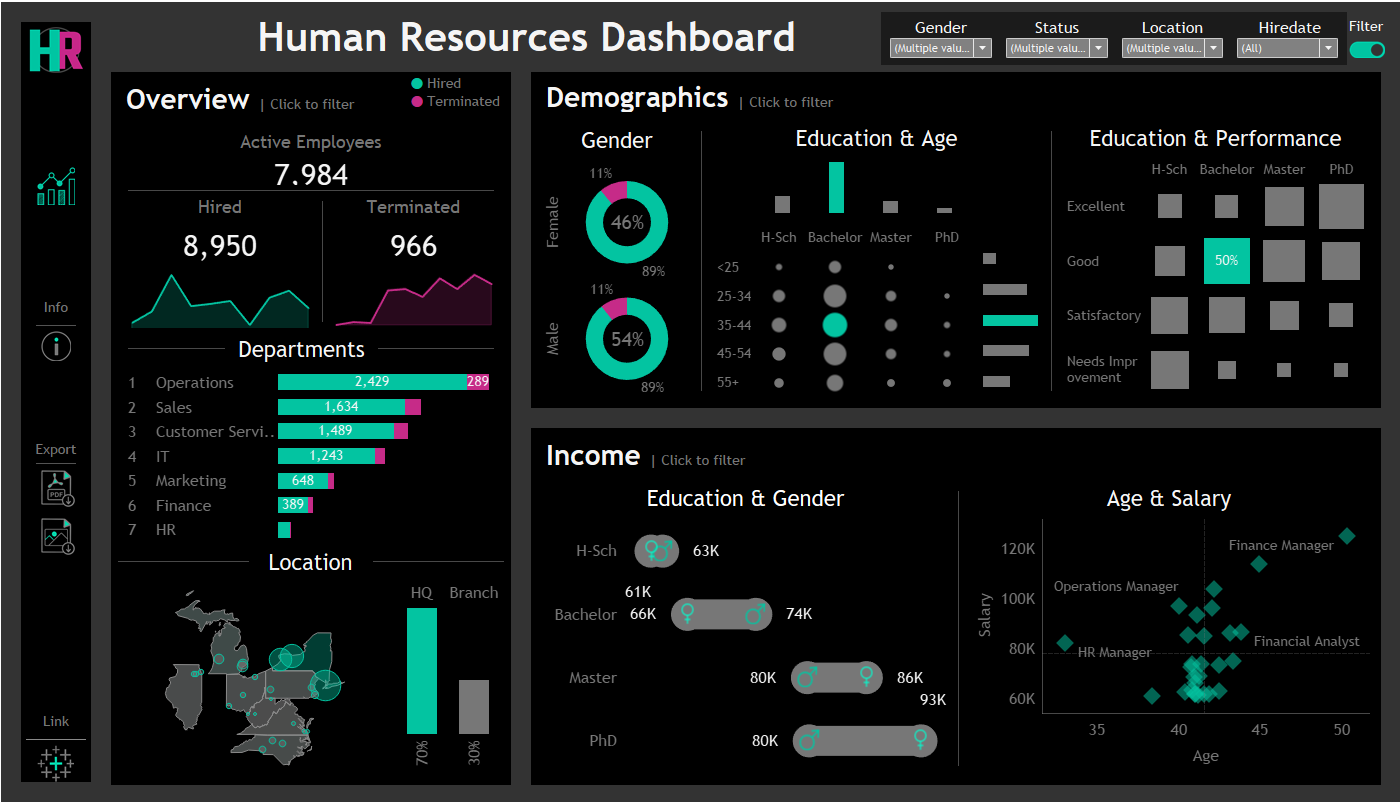

What the dashboard file says about the page in this screenshot:
{"tool":"tableau","page":{"name":"HR | Summary","canvas":[1400,800],"ordinal":0},"visuals":[{"type":"blank","box":[92,0,1308,215]},{"type":"text","box":[110,0,831,70]},{"type":"blank","box":[941,0,439,70]},{"type":"text","box":[1344,9,51,30]},{"type":"filter","title":"Gender v.s. Education Level","param":"[federated.1ss2mue0buwsfx1dy57fa0rys72c].[none:Gender:nk]","box":[882,12,116,49]},{"type":"filter","title":"Gender v.s. Education Level","param":"[federated.1ss2mue0buwsfx1dy57fa0rys72c].[none:Calculation_545498549809082369:nk","box":[998,12,116,49]},{"type":"filter","title":"Gender v.s. Education Level","param":"[federated.1ss2mue0buwsfx1dy57fa0rys72c].[none:Calculation_625155964711464966:nk","box":[1114,12,115,49]},{"type":"filter","title":"Gender v.s. Education Level","param":"[federated.1ss2mue0buwsfx1dy57fa0rys72c].[yr:Hiredate:ok]","box":[1229,12,115,49]},{"type":"image","param":"Image/Logo.png","box":[20,20,70,55]},{"type":"dashboard-object","box":[1348,28,36,38]},{"type":"text","box":[406,70,102,43]},{"type":"blank","box":[20,75,70,80]},{"type":"text","box":[117,77,386,41]},{"type":"text","box":[537,77,836,37.5]},{"type":"text","box":[117,118,386,38]},{"type":"text","box":[537,119.5,158,39]},{"type":"blank","box":[700,119.5,1,280]},{"type":"text","box":[706,119.5,339,34]},{"type":"blank","box":[1050,119.5,1,280]},{"type":"text","box":[1056,119.5,317,34]},{"type":"worksheet","title":"Education Level","mark":"Bar","rows":["Calculation_625155964665917440"],"cols":["Education Level"],"box":[706,153.5,339,62]},{"type":"worksheet","title":"Education vs Performance ","mark":"Square","rows":["Performance Rating"],"cols":["Education Level"],"box":[1056,153.5,317,246]},{"type":"worksheet","title":"BAN Active","mark":"Text","box":[117,156,386,32]},{"type":"worksheet","title":"Gender ratio","mark":"Pie","rows":["Gender"],"cols":["Calculation_2074752095177412609","Calculation_2074752095177687043"],"box":[537,158.5,158,241]},{"type":"dashboard-object","box":[30,165,50,38]},{"type":"blank","box":[117,188,386,1]},{"type":"text","box":[117,189,204,32]},{"type":"blank","box":[321,189,1,141]},{"type":"text","box":[322,189,180.9,32]},{"type":"blank","box":[30,203,50,10]},{"type":"blank","box":[30,213,50,80]},{"type":"text","box":[92,215,1308,363]},{"type":"worksheet","title":"Age vs education ","mark":"Circle","rows":["Calculation_2074752095188586501"],"cols":["Education Level"],"box":[706,215.5,272,184]},{"type":"worksheet","title":"Age groups","mark":"Bar","rows":["Calculation_2074752095188586501"],"cols":["Calculation_625155964665917440"],"box":[978,215.5,67,184]},{"type":"worksheet","title":"BAN Hired","mark":"Text","box":[117,221,204,44]},{"type":"worksheet","title":"BAN Terminated","mark":"Text","box":[322,221,180.9,44]},{"type":"worksheet","title":"Hire by Year","mark":"Line","rows":["Calculation_625155964665917440","Calculation_625155964665917440"],"cols":["Hiredate"],"box":[117,265,204,65]},{"type":"worksheet","title":"Terminated by Year","mark":"Line","rows":["Calculation_625155964666724353","Calculation_625155964666724353"],"cols":["Termdate"],"box":[322,265,180.9,65]},{"type":"text","box":[30,293,50,25]},{"type":"blank","box":[30,318,50,11]},{"type":"dashboard-object","box":[30,329,50,30]},{"type":"blank","box":[127,330,97,34]},{"type":"text","box":[224,330,153,34]},{"type":"blank","box":[377,330,116,34]},{"type":"blank","box":[30,359,50,80]},{"type":"worksheet","title":"Departments","mark":"Bar","rows":["Calculation_625155964708540421","Department"],"cols":["Calculation_625155964665917440"],"box":[117,364,386,180]},{"type":"text","box":[537,433.5,836,41]},{"type":"text","box":[30,439,50,17]},{"type":"blank","box":[30,456,50,11]},{"type":"dashboard-object","box":[30,467,50,38]},{"type":"text","box":[537,479.5,415,34]},{"type":"blank","box":[957,479.5,1,295]},{"type":"text","box":[963,479.5,410,34]},{"type":"blank","box":[30,505,50,10]},{"type":"worksheet","title":"Gender v.s. Education Level","mark":"Line","rows":["Education Level"],"cols":["Salary","Salary"],"box":[537,513.5,415,261]},{"type":"worksheet","title":"Age v.s. Salary","mark":"Shape","rows":["Salary"],"cols":["Calculation_2074752095186108420"],"box":[963,513.5,410,261]},{"type":"dashboard-object","box":[30,515,50,38]},{"type":"blank","box":[117,544,131.3,32]},{"type":"text","box":[248.3,544,123.3,32]},{"type":"blank","box":[371.7,544,131.3,32]},{"type":"worksheet","title":"Map States","mark":"Automatic","box":[117,576,274,200]},{"type":"worksheet","title":"Location","mark":"Bar","rows":["Calculation_625155964665917440"],"cols":["Calculation_625155964711464966","Calculation1"],"box":[391,576,112,200]},{"type":"blank","box":[92,578,1308,222]},{"type":"text","box":[20,707,70,25]},{"type":"blank","box":[20,732,70,11]},{"type":"image","param":"Image/contact-public.png","box":[20,743,70,37]}]}

Visuals, with their boxes in screenshot pixels (x1, y1, x2, y2), scaled from the page's 1400x800 canvas onto the 1400x802 screenshot:
blank: (92,0,1399,216)
text: (110,0,941,70)
blank: (941,0,1380,70)
text: (1344,9,1395,39)
"Gender v.s. Education Level" filter: (882,12,998,61)
"Gender v.s. Education Level" filter: (998,12,1114,61)
"Gender v.s. Education Level" filter: (1114,12,1229,61)
"Gender v.s. Education Level" filter: (1229,12,1344,61)
image: (20,20,90,75)
dashboard-object: (1348,28,1384,66)
text: (406,70,508,113)
blank: (20,75,90,155)
text: (117,77,503,118)
text: (537,77,1373,115)
text: (117,118,503,156)
text: (537,120,695,159)
blank: (700,120,701,400)
text: (706,120,1045,154)
blank: (1050,120,1051,400)
text: (1056,120,1373,154)
"Education Level" worksheet (Bar marks): (706,154,1045,216)
"Education vs Performance " worksheet (Square marks): (1056,154,1373,400)
"BAN Active" worksheet (Text marks): (117,156,503,188)
"Gender ratio" worksheet (Pie marks): (537,159,695,400)
dashboard-object: (30,165,80,204)
blank: (117,188,503,189)
text: (117,189,321,222)
blank: (321,189,322,331)
text: (322,189,503,222)
blank: (30,204,80,214)
blank: (30,214,80,294)
text: (92,216,1399,579)
"Age vs education " worksheet (Circle marks): (706,216,978,400)
"Age groups" worksheet (Bar marks): (978,216,1045,400)
"BAN Hired" worksheet (Text marks): (117,222,321,266)
"BAN Terminated" worksheet (Text marks): (322,222,503,266)
"Hire by Year" worksheet (Line marks): (117,266,321,331)
"Terminated by Year" worksheet (Line marks): (322,266,503,331)
text: (30,294,80,319)
blank: (30,319,80,330)
dashboard-object: (30,330,80,360)
blank: (127,331,224,365)
text: (224,331,377,365)
blank: (377,331,493,365)
blank: (30,360,80,440)
"Departments" worksheet (Bar marks): (117,365,503,545)
text: (537,435,1373,476)
text: (30,440,80,457)
blank: (30,457,80,468)
dashboard-object: (30,468,80,506)
text: (537,481,952,515)
blank: (957,481,958,776)
text: (963,481,1373,515)
blank: (30,506,80,516)
"Gender v.s. Education Level" worksheet (Line marks): (537,515,952,776)
"Age v.s. Salary" worksheet (Shape marks): (963,515,1373,776)
dashboard-object: (30,516,80,554)
blank: (117,545,248,577)
text: (248,545,372,577)
blank: (372,545,503,577)
"Map States" worksheet: (117,577,391,778)
"Location" worksheet (Bar marks): (391,577,503,778)
blank: (92,579,1399,801)
text: (20,709,90,734)
blank: (20,734,90,745)
image: (20,745,90,782)
